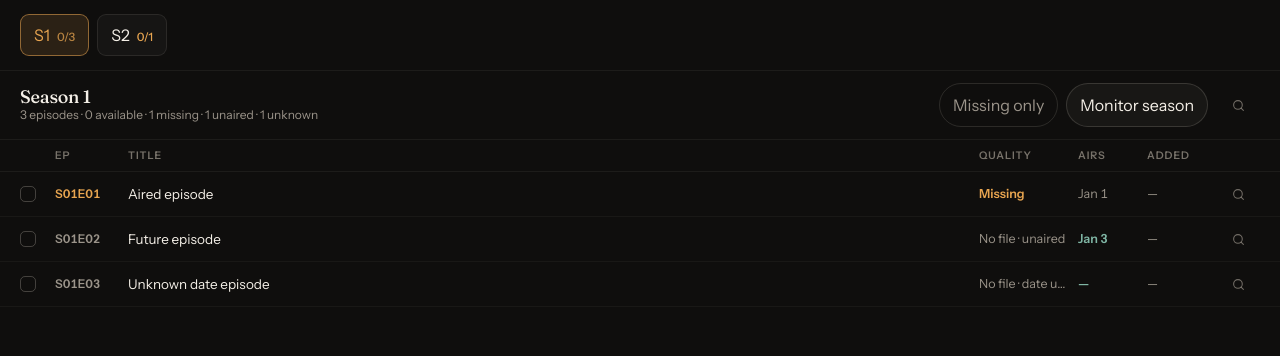
Test: TvEpisodeTable › does not announce a successful season update when the action fails
expect the text "Aired episode" is shown: met, box [128, 184, 214, 204]
Click the button "Monitor season". click: (1137, 105)
box: [1066, 83, 1208, 127]
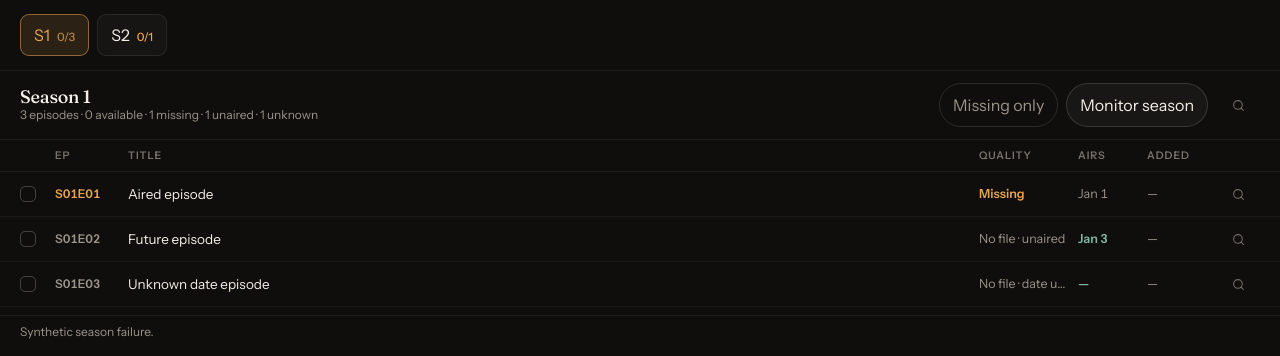
expect the message reads "Synthetic season failure.": met, box [20, 324, 154, 339]
